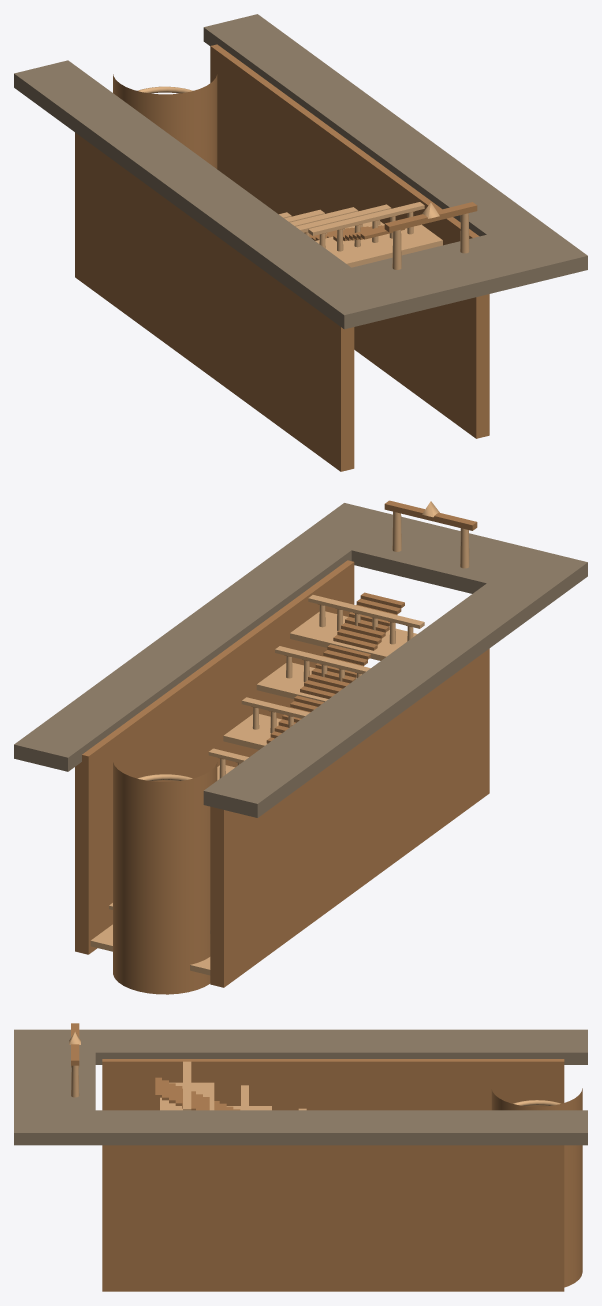
File: rani-ki-vav.glb
3 renders of one model, top to bottom at view 1: azimuth 30°, elevation 25°; view 2: azimuth 150°, elevation 25°; view 3: azimuth 270°, elevation 25°, orthographic. The views are drawn at different scales.
Visible parts, largest first — view 1: Subterranean_Pavilion_Tiers, Rani_Ki_Vav_LiDAR_Digital_Twin, Deep_Well_Shaft_Reservoir, Entrance_Torana_Pavilion; view 2: Subterranean_Pavilion_Tiers, Rani_Ki_Vav_LiDAR_Digital_Twin, Deep_Well_Shaft_Reservoir, Entrance_Torana_Pavilion; view 3: Subterranean_Pavilion_Tiers, Rani_Ki_Vav_LiDAR_Digital_Twin, Deep_Well_Shaft_Reservoir, Entrance_Torana_Pavilion.
Part boxes in pixels (x1=…): Subterranean_Pavilion_Tiers: x1=75, y1=44, x2=489, y2=471; Rani_Ki_Vav_LiDAR_Digital_Twin: x1=14, y1=14, x2=587, y2=329; Deep_Well_Shaft_Reservoir: x1=113, y1=74, x2=217, y2=168; Entrance_Torana_Pavilion: x1=384, y1=202, x2=477, y2=269; Subterranean_Pavilion_Tiers: x1=75, y1=560, x2=489, y2=987; Rani_Ki_Vav_LiDAR_Digital_Twin: x1=14, y1=503, x2=587, y2=817; Deep_Well_Shaft_Reservoir: x1=113, y1=762, x2=217, y2=994; Entrance_Torana_Pavilion: x1=384, y1=500, x2=477, y2=568; Subterranean_Pavilion_Tiers: x1=102, y1=1059, x2=564, y2=1291; Rani_Ki_Vav_LiDAR_Digital_Twin: x1=14, y1=1029, x2=587, y2=1145; Deep_Well_Shaft_Reservoir: x1=491, y1=1088, x2=582, y2=1287; Entrance_Torana_Pavilion: x1=69, y1=1023, x2=80, y2=1097.
Size of the model in its own units: 36 by 39.1 by 84.5.
